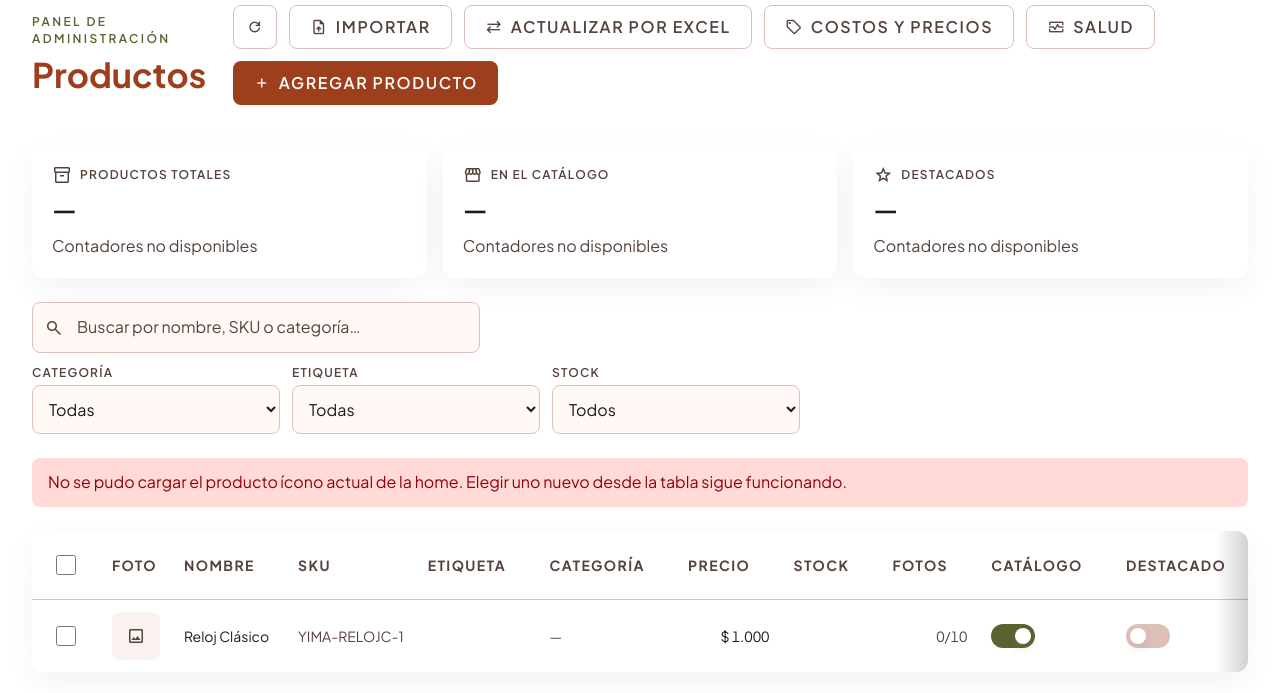
Scenario: AdminProductos — buscador › dice que la búsqueda no encontró nada, no que no haya productos
expect the text "Reloj Clásico" is shown: met, box [184,626,274,646]
Type "inexistente" into the search field named "buscar productos" at (256, 328), box [32,302,480,353]
(page scrolled)
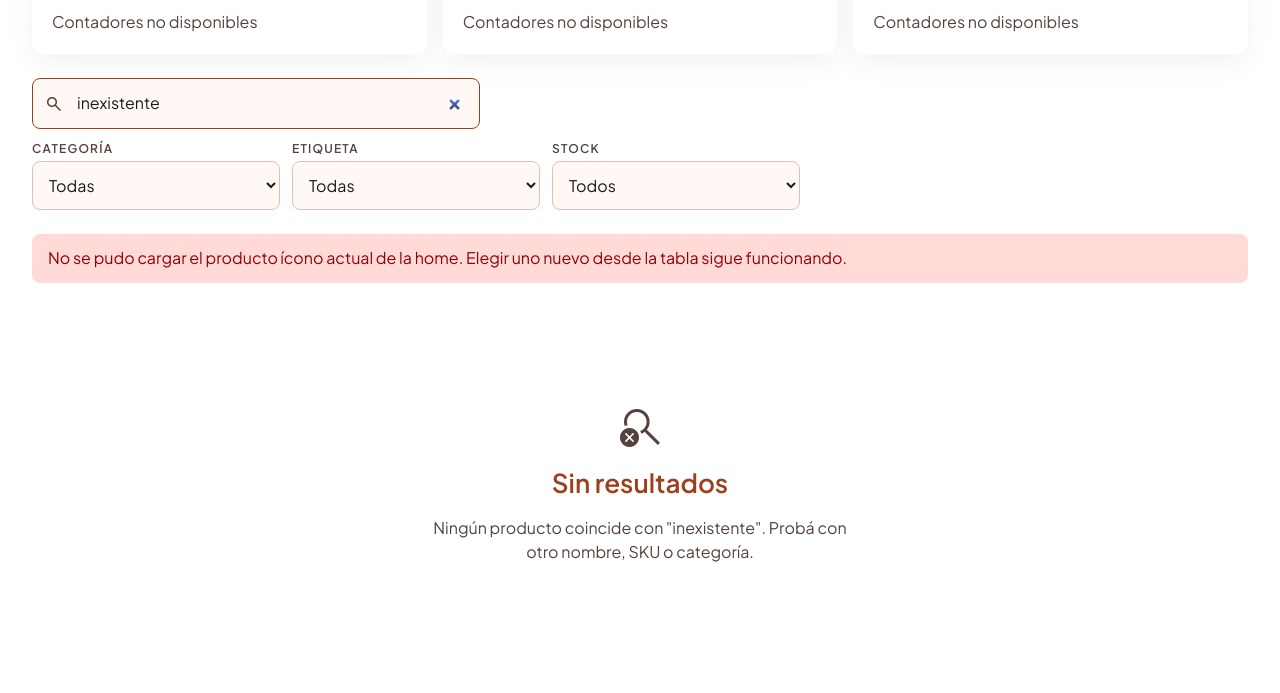
expect the heading "Sin resultados" is shown: met, box [552,467,728,500]
